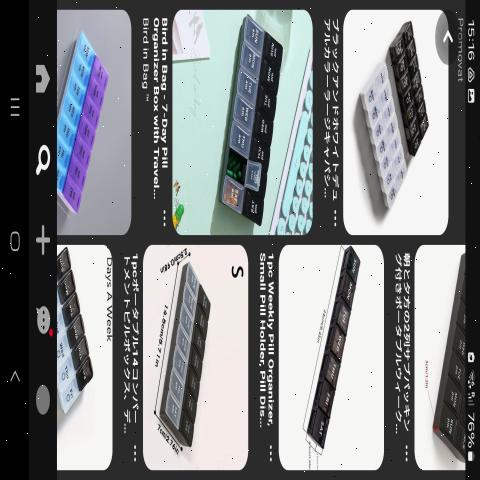PillBox: (212, 13, 290, 232), (295, 251, 365, 463), (149, 253, 219, 463), (390, 15, 432, 156)
